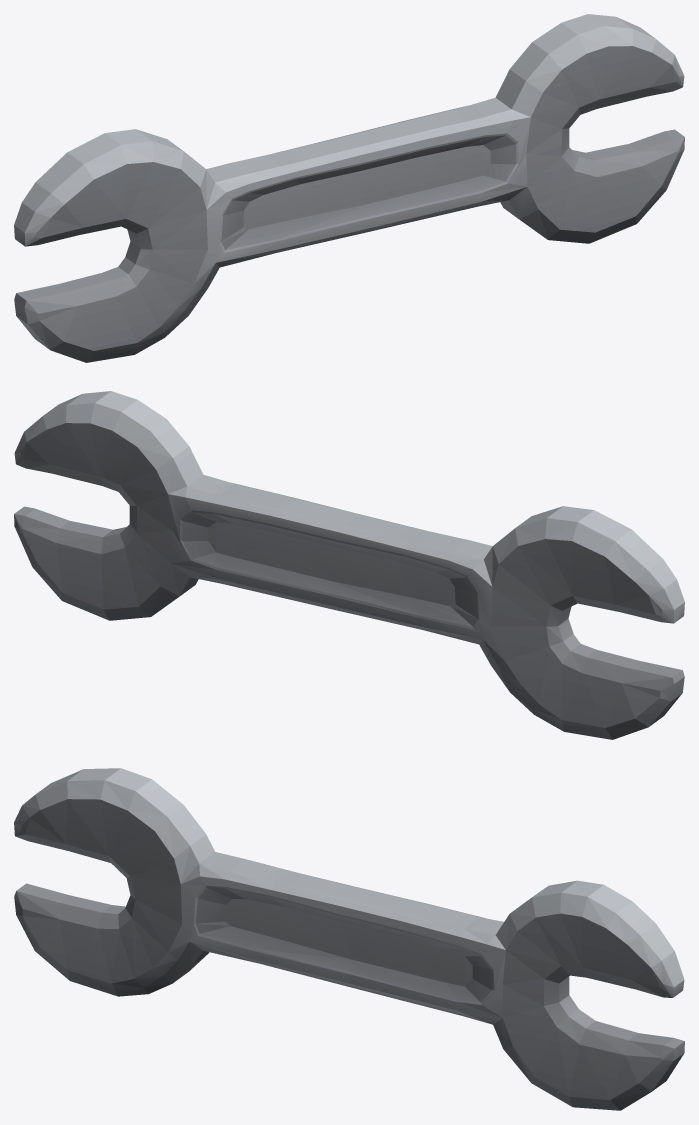
Rendered from CharSkyKid_Prop_Wrench.glb.
3 renders of one model, top to bottom at view 1: azimuth 30°, elevation 25°; view 2: azimuth 150°, elevation 25°; view 3: azimuth 330°, elevation 25°, orthographic.
Visible parts, largest first — view 1: CharSkyKid_Prop_Wrench; view 2: CharSkyKid_Prop_Wrench; view 3: CharSkyKid_Prop_Wrench.
Boxes of the visible parts, x1,y1,x2,y2 form: CharSkyKid_Prop_Wrench: [14, 14, 684, 362]; CharSkyKid_Prop_Wrench: [14, 391, 684, 739]; CharSkyKid_Prop_Wrench: [14, 768, 684, 1110].
Size of the model in its own units: 7.58 by 2.35 by 0.5279.
1 material, 1 textured.
